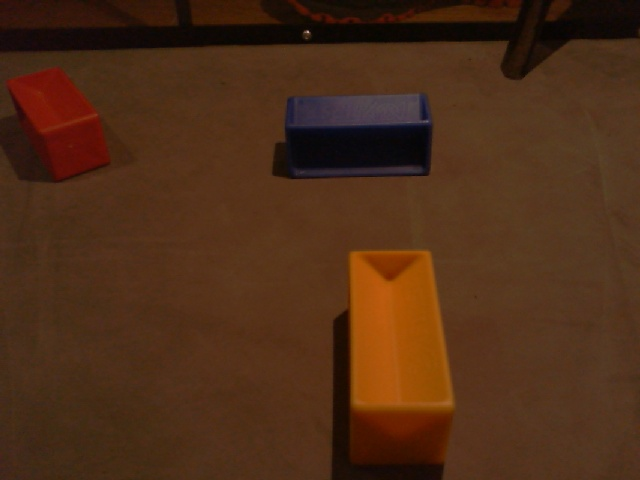BlueSample: (282, 91, 435, 178)
RedSample: (2, 64, 112, 184)
YellowSample: (344, 247, 457, 465)
